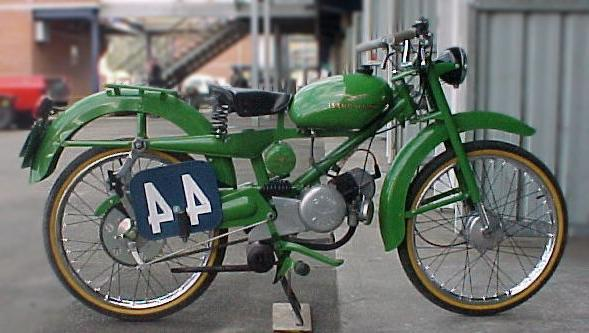motorcycle: (9, 14, 578, 329)
